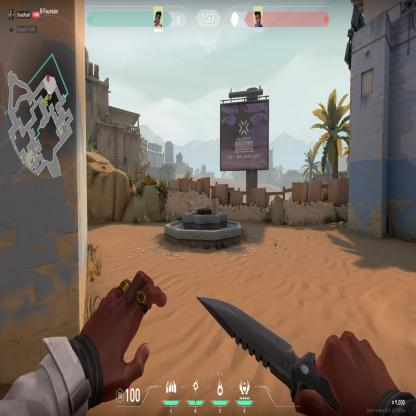enemy: (188, 194, 193, 212)
